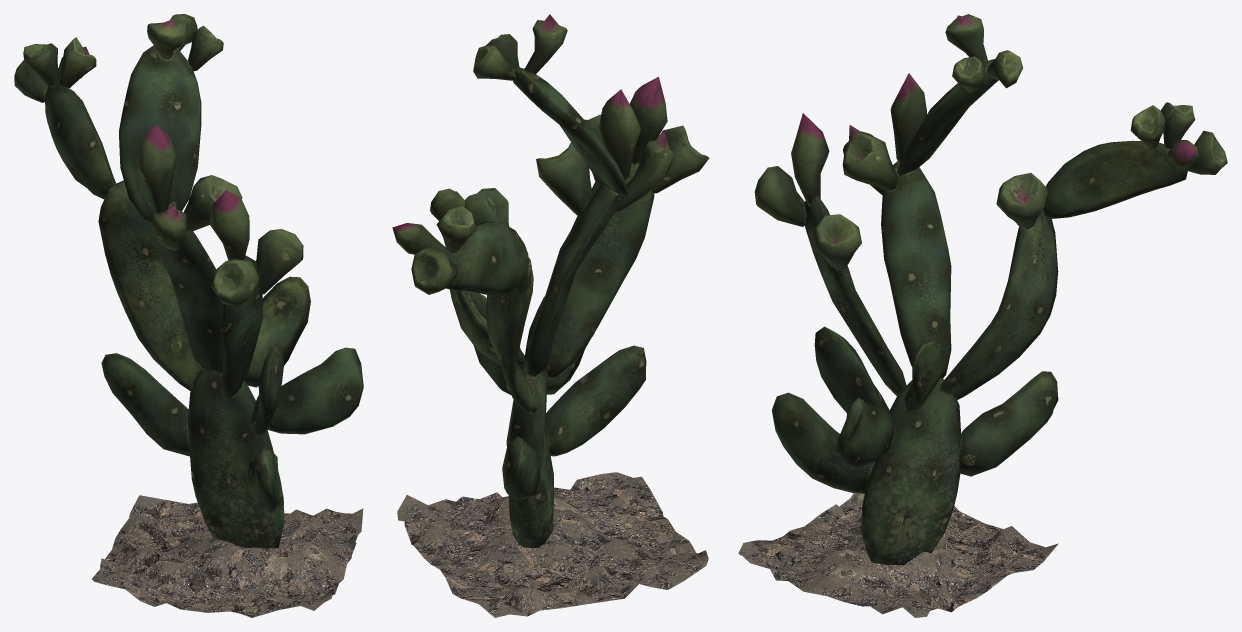
Rendered from CACTUS.fbx.
The picture shows the model from 3 angles, left to right: view 1: azimuth 30°, elevation 25°; view 2: azimuth 150°, elevation 25°; view 3: azimuth 270°, elevation 25°; orthographic projection. The views are drawn at different scales.
Parts seen in each view (by area): view 1: Object_6, Cactus_Soil_1; view 2: Object_6, Cactus_Soil_1; view 3: Object_6, Cactus_Soil_1.
Boxes of the visible parts, bbox=[...] form: Object_6: bbox=[14, 14, 363, 548]; Cactus_Soil_1: bbox=[92, 495, 363, 617]; Object_6: bbox=[392, 14, 709, 547]; Cactus_Soil_1: bbox=[397, 472, 708, 617]; Object_6: bbox=[754, 14, 1227, 564]; Cactus_Soil_1: bbox=[738, 493, 1058, 617].
Bounding box in the file's own units: 28.28 × 52.26 × 43.18.
Materials: 1 (1 with a texture image).
